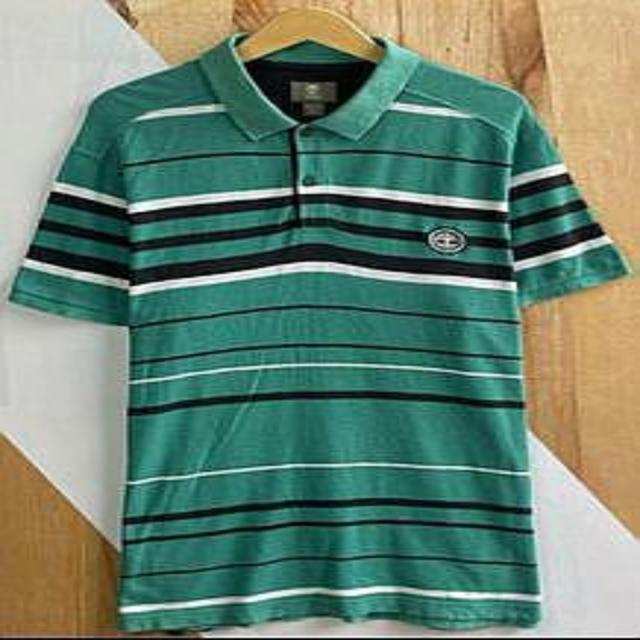T_SHIRT: (10, 22, 640, 640)
